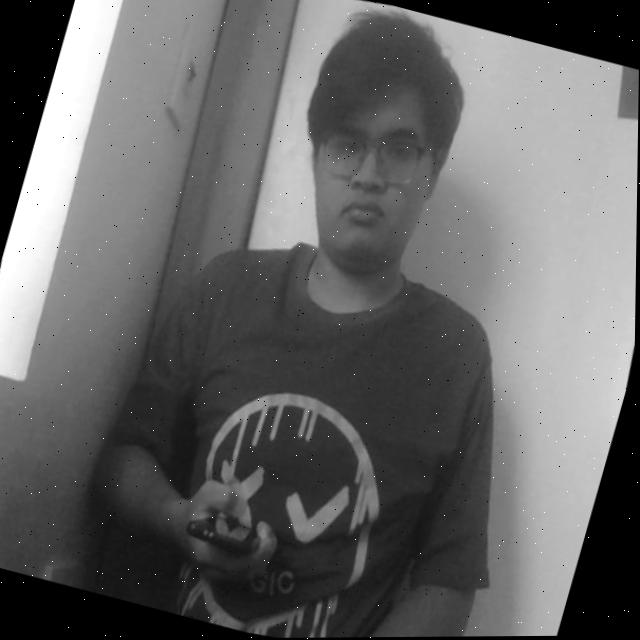phone: (173, 470, 294, 592)
